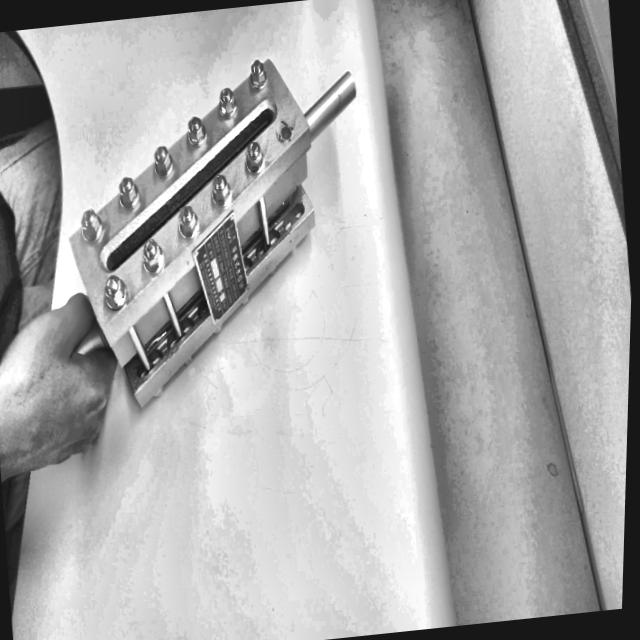ShuiWeiQi_11: (46, 39, 392, 374)
